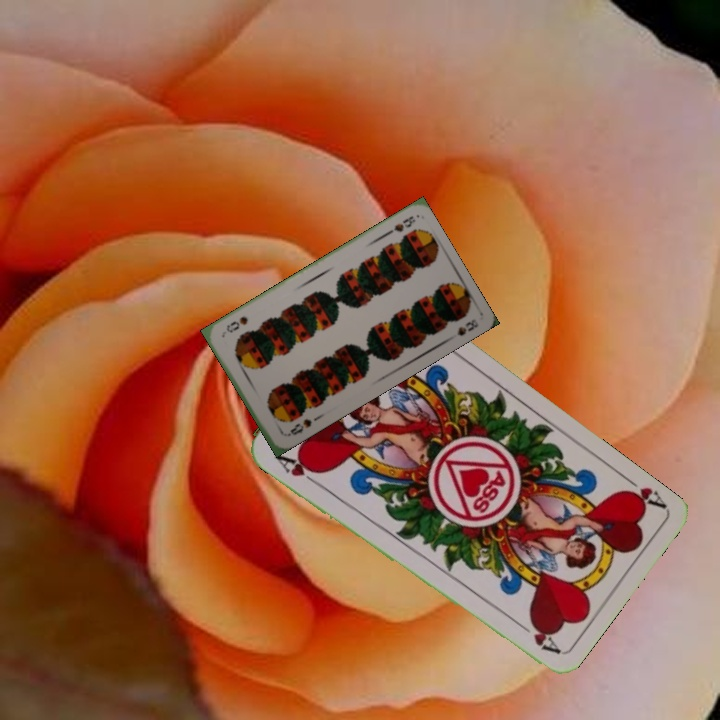HA: (615, 469, 667, 513), (269, 448, 322, 488)
S8: (380, 212, 418, 239), (278, 415, 314, 439)
